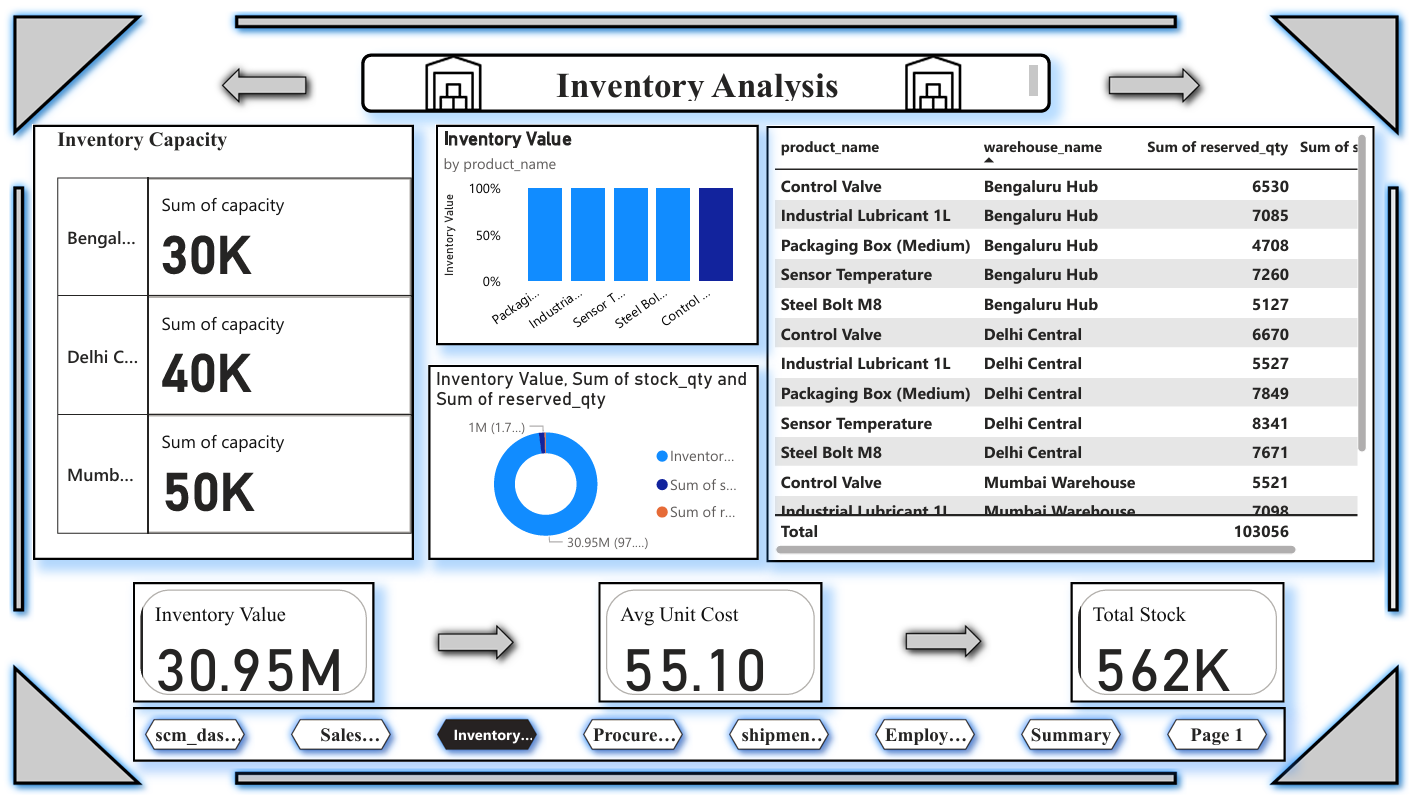

Layout of this report page (visuals, bound fields, positions):
{"tool":"powerbi","page":{"name":"Inventory Analysis","canvas":[1280,720],"ordinal":2},"visuals":[{"type":"textbox","box":[326,44,628,54],"z":0},{"type":"shape","box":[386.7,556,87.3,49.9],"z":1000},{"type":"shape","box":[202,0,876,30],"z":2000},{"type":"shape","box":[1252,156,28,406],"z":3000},{"type":"shape","box":[202,690,876,30],"z":4000},{"type":"shape","box":[0,592,136,128],"z":5000},{"type":"shape","box":[1144,592,136,128],"z":6000},{"type":"shape","box":[1144,0,136,128],"z":7000},{"type":"shape","box":[0,0,136,128],"z":8000},{"type":"shape","box":[0,156,28,406],"z":9000},{"type":"shape","box":[997.9,48.1,101.6,49.9],"z":10000},{"type":"shape","box":[812.6,556,87.3,48.1],"z":11000},{"type":"shape","box":[190,48.3,95,50],"z":12000},{"type":"cardVisual","title":"Inventory Capacity","fields":{"Data":["Sum(dim_warehouse.capacity)"],"Rows":["dim_warehouse.warehouse_name"]},"box":[26.7,108.7,347.5,397.4],"z":13000},{"type":"cardVisual","fields":{"Data":["dim_customer.Inventory Value"]},"box":[118.2,526.2,220.2,110.1],"z":14000},{"type":"cardVisual","fields":{"Data":["dim_customer.Total Stock"]},"box":[971.5,526.2,195.9,110.1],"z":15000},{"type":"cardVisual","fields":{"Data":["dim_customer.Avg Unit Cost"]},"box":[542.4,526.2,204,110.1],"z":16000},{"type":"tableEx","fields":{"Values":["dim_product.product_name","dim_warehouse.warehouse_name","Sum(fact_inventory.reserved_qty)","Sum(fact_inventory.stock_qty)"]},"box":[694.9,110.5,554.2,397.4],"z":17000},{"type":"donutChart","fields":{"Y":["dim_customer.Inventory Value","Sum(fact_inventory.stock_qty)","Sum(fact_inventory.reserved_qty)"]},"box":[386.7,327.9,301.1,178.2],"z":18000},{"type":"hundredPercentStackedColumnChart","fields":{"Category":["dim_product.product_name"],"Y":["dim_customer.Inventory Value"]},"box":[393.8,108.7,294,201.4],"z":19000},{"type":"pageNavigator","box":[118.3,640,1050,50],"z":20000},{"type":"image","box":[375.7,37.2,68,68],"z":21000},{"type":"image","box":[812.9,37.2,68,68],"z":22000}]}

Visuals, with their boxes in screenshot pixels (x1, y1, x2, y2), scaled from the page's 1280x720 canvas onto the 1417x804 screenshot:
textbox: 361,49,1056,109
shape: 428,621,525,677
shape: 224,0,1193,34
shape: 1386,174,1416,628
shape: 224,770,1193,803
shape: 0,661,151,803
shape: 1266,661,1416,803
shape: 1266,0,1416,143
shape: 0,0,151,143
shape: 0,174,31,628
shape: 1105,54,1217,109
shape: 900,621,996,675
shape: 210,54,316,110
"Inventory Capacity" cardVisual: 30,121,414,565
cardVisual - dim_customer.Inventory Value: 131,588,375,711
cardVisual - dim_customer.Total Stock: 1075,588,1292,711
cardVisual - dim_customer.Avg Unit Cost: 600,588,826,711
tableEx - dim_product.product_name x dim_warehouse.warehouse_name: 769,123,1383,567
donutChart - dim_customer.Inventory Value x Sum(fact_inventory.stock_qty): 428,366,761,565
hundredPercentStackedColumnChart - dim_product.product_name x dim_customer.Inventory Value: 436,121,761,346
pageNavigator: 131,715,1293,770
image: 416,42,491,117
image: 900,42,975,117
